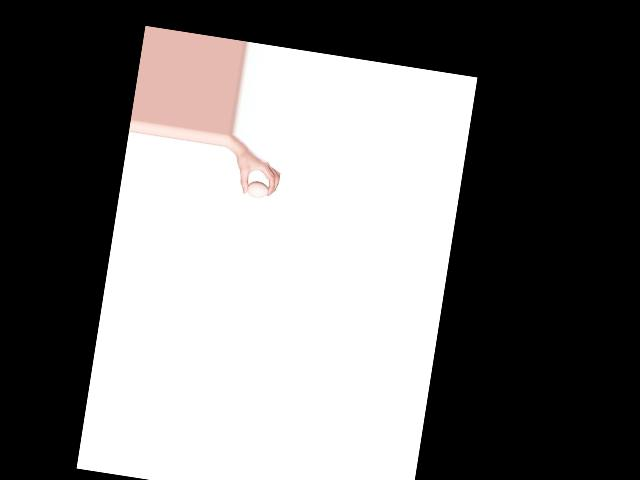egg: (245, 179, 269, 199)
